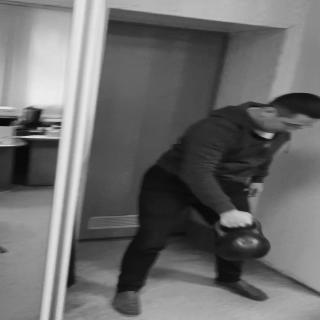girya: (212, 218, 273, 263)
